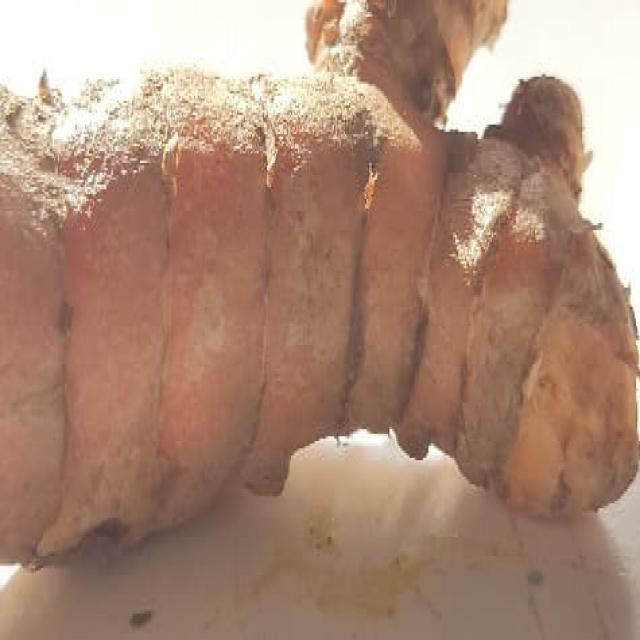ginger: (0, 94, 640, 580)
